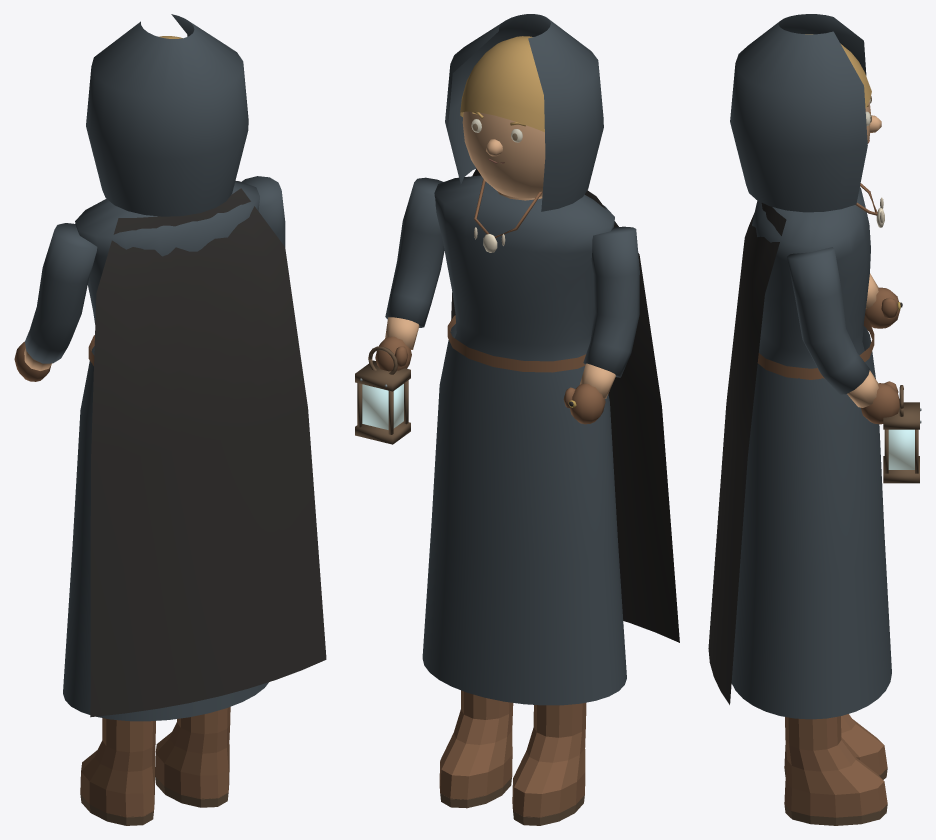
Rendered from SM_NPC_ESTRELLA_FUGAZ.glb.
3 renders of one model, left to right at view 1: azimuth 30°, elevation 25°; view 2: azimuth 150°, elevation 25°; view 3: azimuth 270°, elevation 25°, orthographic. The views are drawn at different scales.
Visible parts, largest first — view 1: SM_NPC_ESTRELLA_FUGAZ_BODY, SM_NPC_ESTRELLA_FUGAZ_HAIR, SM_NPC_ESTRELLA_FUGAZ_ARM_L, SM_NPC_ESTRELLA_FUGAZ_LEG_L, SM_NPC_ESTRELLA_FUGAZ_LEG_R, SM_NPC_ESTRELLA_FUGAZ_ARM_R; view 2: SM_NPC_ESTRELLA_FUGAZ_BODY, SM_NPC_ESTRELLA_FUGAZ_HAIR, SM_NPC_ESTRELLA_FUGAZ_ARM_R, SM_NPC_ESTRELLA_FUGAZ_ARM_L, SM_NPC_ESTRELLA_FUGAZ_LEG_L, SM_NPC_ESTRELLA_FUGAZ_LEG_R, SM_NPC_ESTRELLA_FUGAZ_HEAD; view 3: SM_NPC_ESTRELLA_FUGAZ_BODY, SM_NPC_ESTRELLA_FUGAZ_HAIR, SM_NPC_ESTRELLA_FUGAZ_ARM_R, SM_NPC_ESTRELLA_FUGAZ_LEG_R, SM_NPC_ESTRELLA_FUGAZ_LEG_L, SM_NPC_ESTRELLA_FUGAZ_ARM_L.
Boxes of the visible parts, bbox=[...] form: SM_NPC_ESTRELLA_FUGAZ_BODY: bbox=[63, 181, 326, 721]; SM_NPC_ESTRELLA_FUGAZ_HAIR: bbox=[86, 14, 248, 216]; SM_NPC_ESTRELLA_FUGAZ_ARM_L: bbox=[14, 223, 97, 381]; SM_NPC_ESTRELLA_FUGAZ_LEG_L: bbox=[80, 718, 155, 825]; SM_NPC_ESTRELLA_FUGAZ_LEG_R: bbox=[155, 707, 230, 807]; SM_NPC_ESTRELLA_FUGAZ_ARM_R: bbox=[241, 176, 285, 246]; SM_NPC_ESTRELLA_FUGAZ_BODY: bbox=[422, 168, 679, 705]; SM_NPC_ESTRELLA_FUGAZ_HAIR: bbox=[445, 14, 603, 211]; SM_NPC_ESTRELLA_FUGAZ_ARM_R: bbox=[355, 177, 444, 444]; SM_NPC_ESTRELLA_FUGAZ_ARM_L: bbox=[563, 226, 639, 424]; SM_NPC_ESTRELLA_FUGAZ_LEG_L: bbox=[512, 702, 586, 825]; SM_NPC_ESTRELLA_FUGAZ_LEG_R: bbox=[439, 690, 513, 808]; SM_NPC_ESTRELLA_FUGAZ_HEAD: bbox=[462, 111, 545, 198]; SM_NPC_ESTRELLA_FUGAZ_BODY: bbox=[708, 183, 891, 719]; SM_NPC_ESTRELLA_FUGAZ_HAIR: bbox=[730, 14, 871, 212]; SM_NPC_ESTRELLA_FUGAZ_ARM_R: bbox=[787, 247, 921, 483]; SM_NPC_ESTRELLA_FUGAZ_LEG_R: bbox=[784, 716, 887, 825]; SM_NPC_ESTRELLA_FUGAZ_LEG_L: bbox=[784, 714, 887, 779]; SM_NPC_ESTRELLA_FUGAZ_ARM_L: bbox=[864, 273, 902, 328].
Bounding box in the file's own units: 0.6008 × 1.85 × 0.4625.
